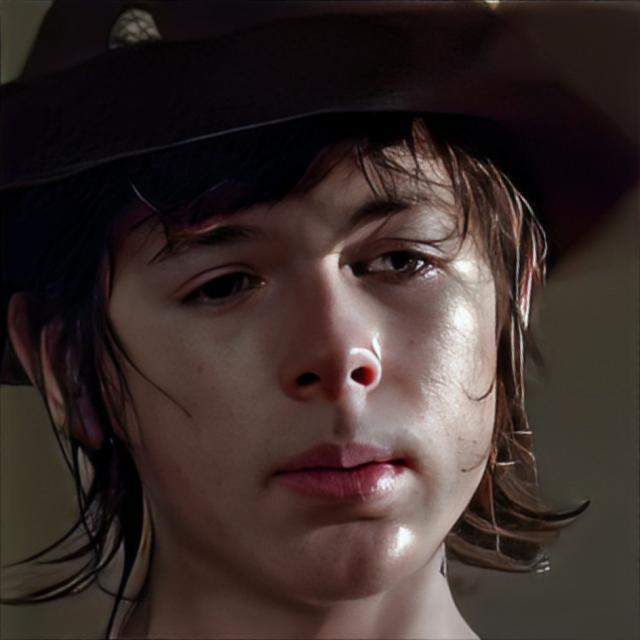sad: (110, 104, 508, 610)
